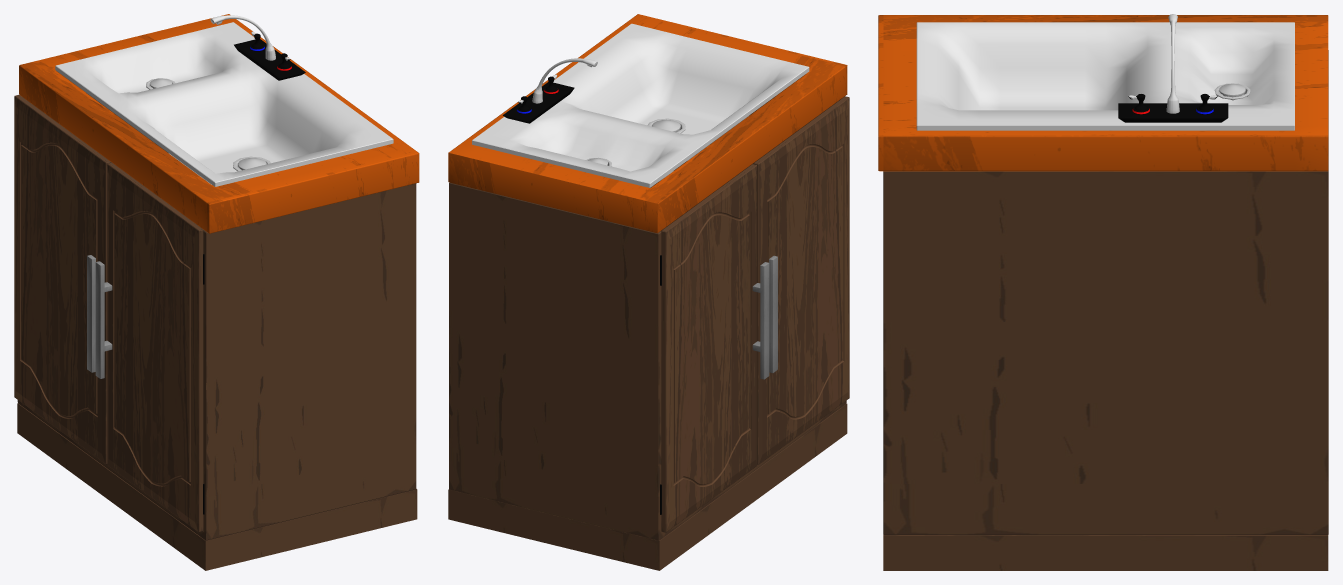
File: sink.fbx
3 views of the same model, side by side, from view 1: azimuth 30°, elevation 25°; view 2: azimuth 150°, elevation 25°; view 3: azimuth 270°, elevation 25° (orthographic). The views are drawn at different scales.
Parts seen in each view (by area): view 1: Sink - Cab - shell, cab - door right, cab - door left; view 2: Sink - Cab - shell, cab - door left, cab - door right; view 3: Sink - Cab - shell, faucet.
Boxes of the visible parts, bbox=[...] form: Sink - Cab - shell: bbox=[17, 14, 419, 570]; cab - door right: bbox=[95, 162, 203, 532]; cab - door left: bbox=[14, 95, 110, 464]; Sink - Cab - shell: bbox=[448, 14, 847, 570]; cab - door left: bbox=[661, 164, 769, 532]; cab - door right: bbox=[754, 96, 849, 464]; Sink - Cab - shell: bbox=[878, 15, 1328, 570]; faucet: bbox=[1166, 14, 1179, 113].
Size of the model in its own units: 106 by 190 by 152.
